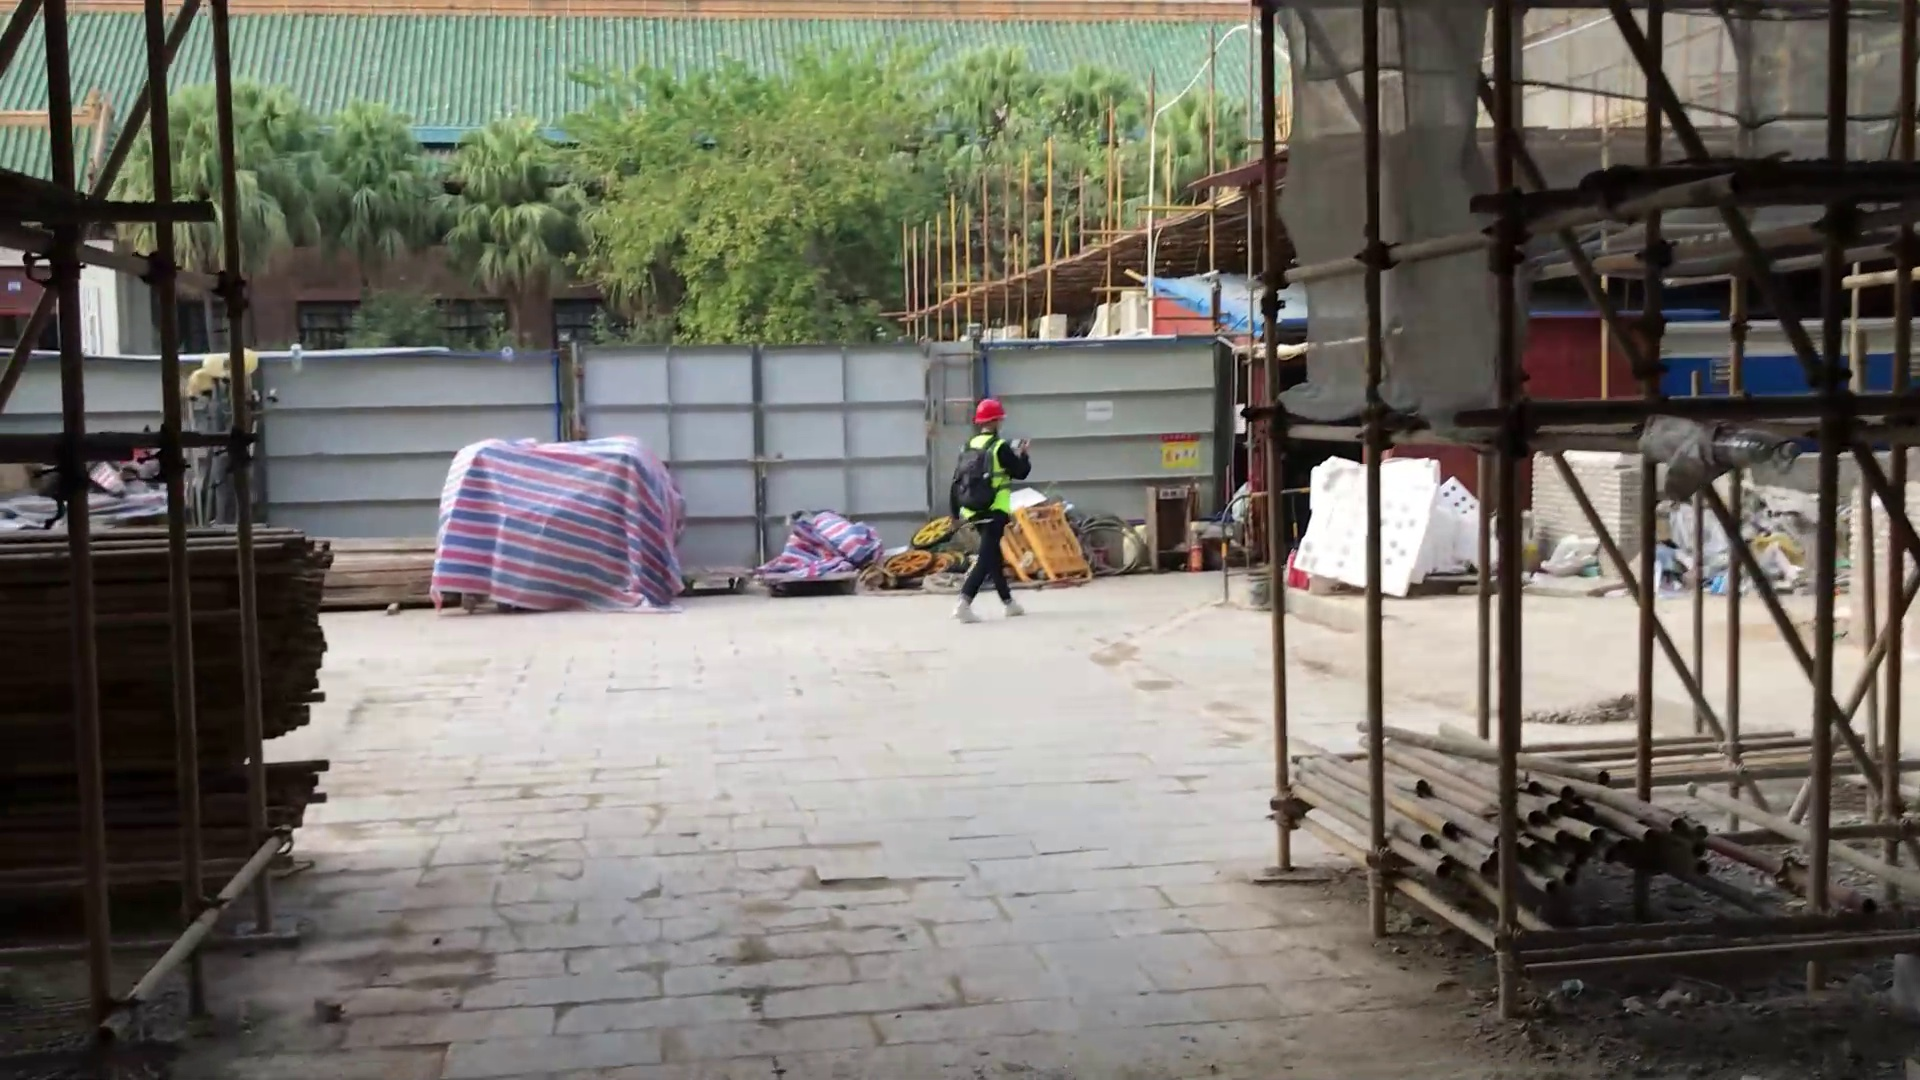helmet: (967, 394, 1011, 430)
person: (945, 387, 1052, 628)
vest: (959, 424, 1017, 516)
